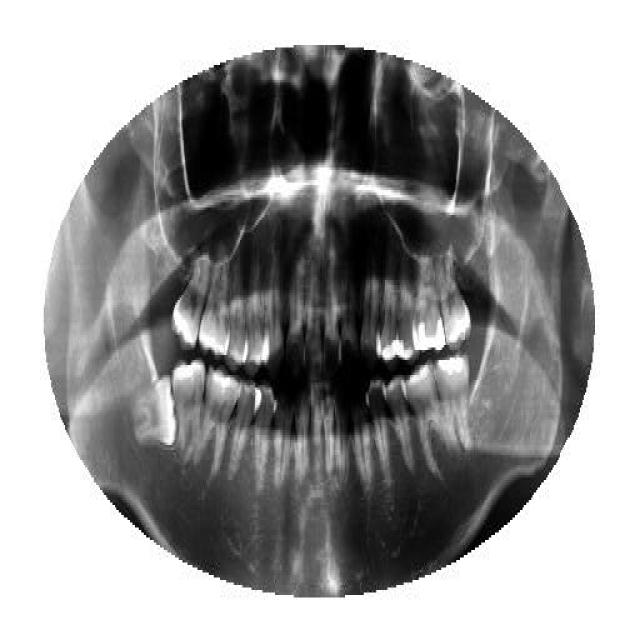Fillings: (435, 348, 479, 462), (419, 250, 445, 358)
Impacted Tooth: (132, 375, 176, 453)
